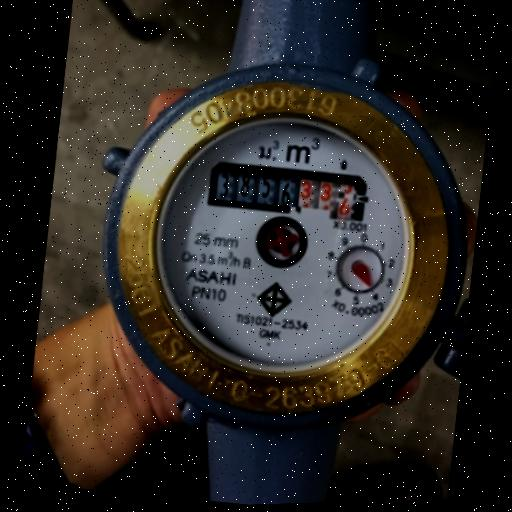3: (214, 170, 235, 202), (316, 180, 335, 211), (297, 178, 315, 209)
5: (256, 174, 274, 206)
6: (335, 181, 357, 222), (277, 175, 295, 206)
8: (235, 172, 254, 204)
border_water_meter_number: (206, 156, 369, 227)
